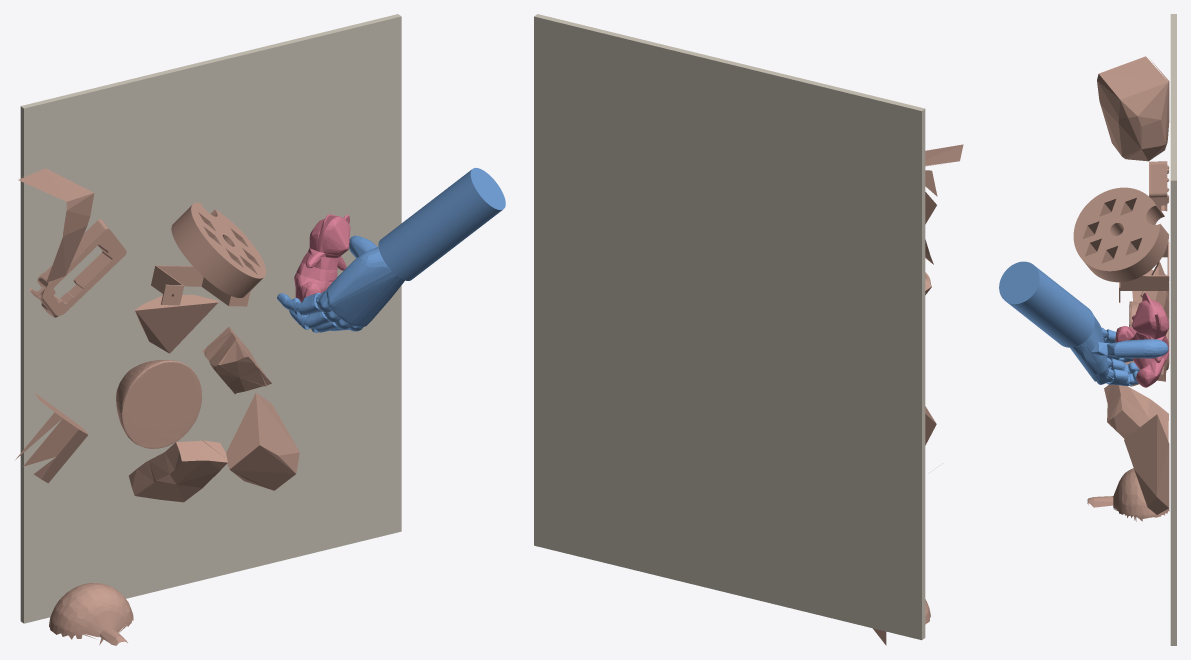
3 renders of one model, left to right at view 1: azimuth 30°, elevation 25°; view 2: azimuth 150°, elevation 25°; view 3: azimuth 270°, elevation 25°, orthographic. The views are drawn at different scales.
Visible parts, largest first — view 1: environment, hand, obstacle_003, obstacle_007, obstacle_004, obstacle_008, obstacle_010, obstacle_001, world, obstacle_009, obstacle_006, obstacle_002 (+2 smaller); view 2: environment, obstacle_009; view 3: hand, obstacle_007, obstacle_009, environment, obstacle_004, world, obstacle_008, obstacle_010, obstacle_001, obstacle_000, obstacle_006, obstacle_003.
Boxes of the visible parts, box(x1,y1,x2,y2) form: environment: box(20, 14, 401, 623); hand: box(277, 167, 505, 332); obstacle_003: box(116, 360, 202, 448); obstacle_007: box(171, 202, 266, 297); obstacle_004: box(226, 393, 299, 490); obstacle_008: box(129, 440, 227, 502); obstacle_010: box(49, 583, 133, 645); obstacle_001: box(29, 219, 126, 317); world: box(294, 214, 350, 302); obstacle_009: box(18, 168, 94, 282); obstacle_006: box(135, 294, 218, 353); obstacle_002: box(202, 327, 271, 393); environment: box(534, 14, 925, 640); obstacle_009: box(925, 144, 963, 264); hand: box(999, 261, 1168, 385); obstacle_007: box(1073, 187, 1168, 282); obstacle_009: box(1097, 56, 1169, 161); environment: box(1170, 14, 1176, 645); obstacle_004: box(1124, 414, 1169, 514); world: box(1115, 292, 1169, 387); obstacle_008: box(1104, 384, 1168, 441); obstacle_010: box(1087, 468, 1169, 521); obstacle_001: box(1149, 161, 1169, 211); obstacle_000: box(1119, 241, 1169, 302); obstacle_006: box(1140, 261, 1169, 315); obstacle_003: box(1129, 301, 1169, 386).
Size of the model in its own units: 0.5785 by 0.6926 by 0.2315.
